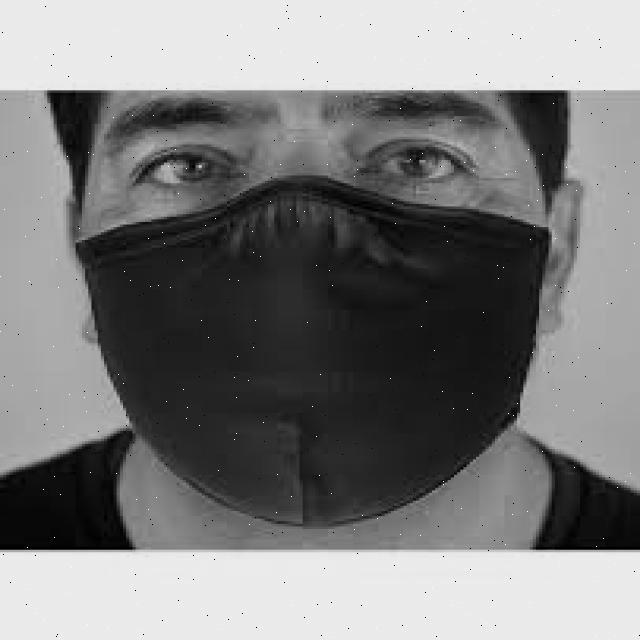fake: (44, 171, 589, 531)
real: (76, 93, 543, 539)
